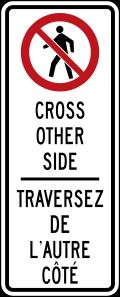Pedestrian Prohibited: (16, 14, 107, 176)
